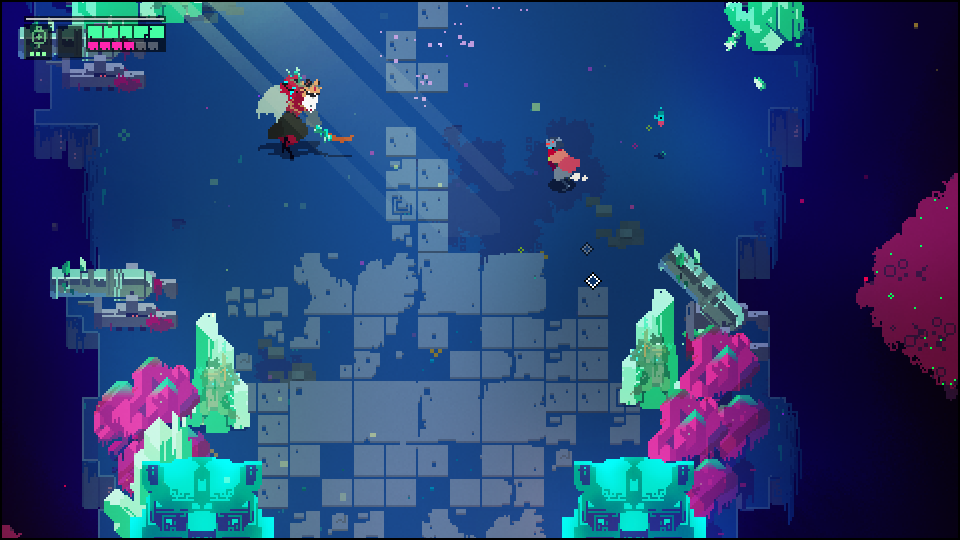hanged_man: (251, 62, 358, 168)
player: (541, 134, 583, 189)
